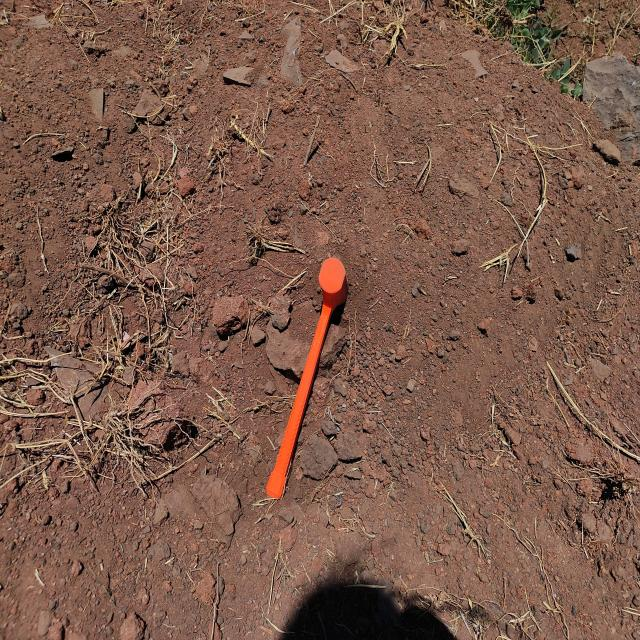Orange_hammer: (264, 256, 348, 500)
